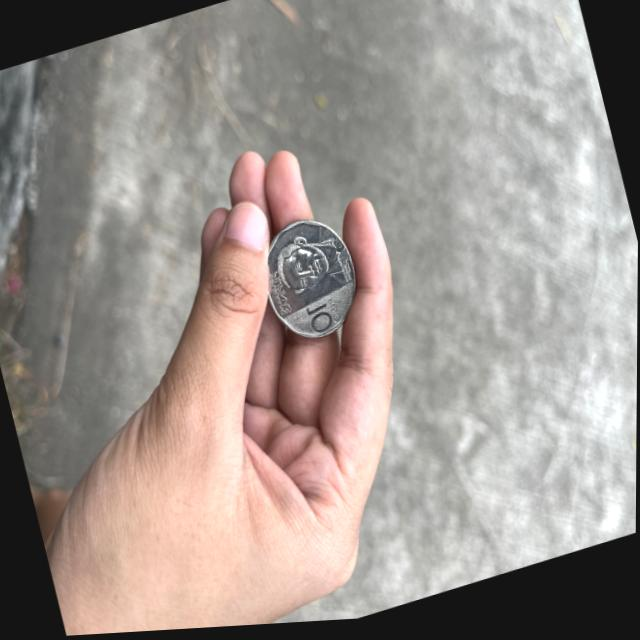10_New_Front: (300, 300, 347, 343)
